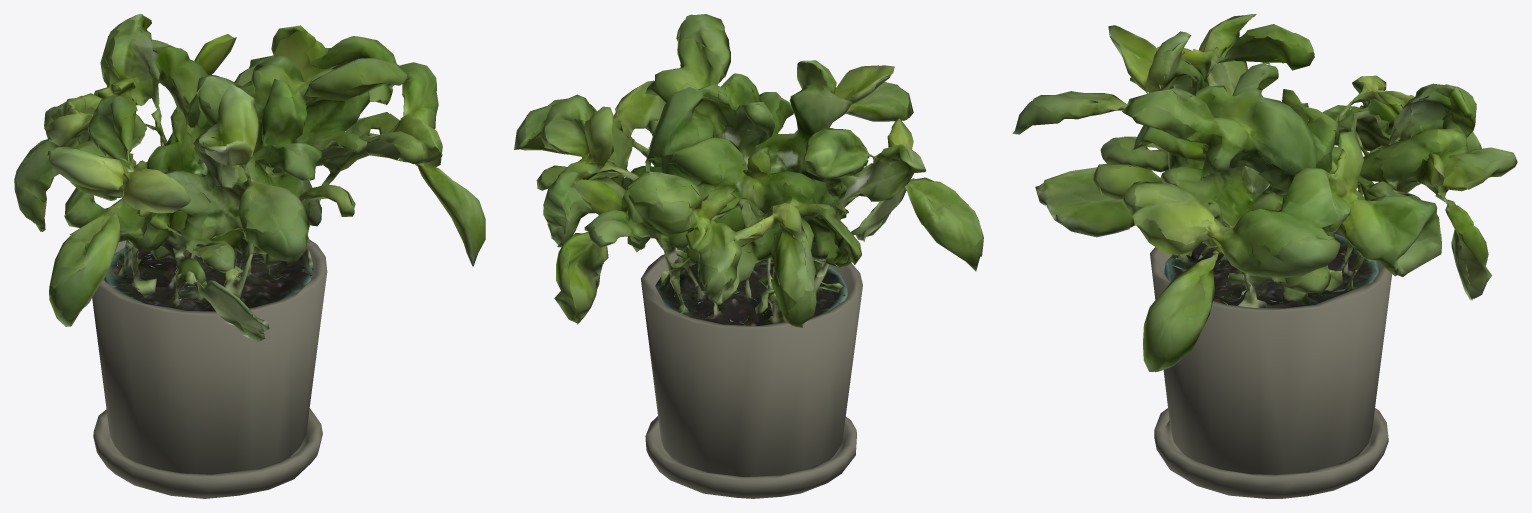
The model's file is basil.glb.
The picture shows the model from 3 angles, left to right: view 1: azimuth 30°, elevation 25°; view 2: azimuth 150°, elevation 25°; view 3: azimuth 270°, elevation 25°; orthographic projection. The views are drawn at different scales.
Visible parts, largest first — view 1: basil; view 2: basil; view 3: basil.
Boxes of the visible parts, x1,y1,x2,y2 form: basil: [14, 14, 485, 498]; basil: [514, 14, 983, 498]; basil: [1012, 14, 1517, 498].
Bounding box in the file's own units: 0.4064 × 0.3652 × 0.3962.
2 materials, 1 textured.
